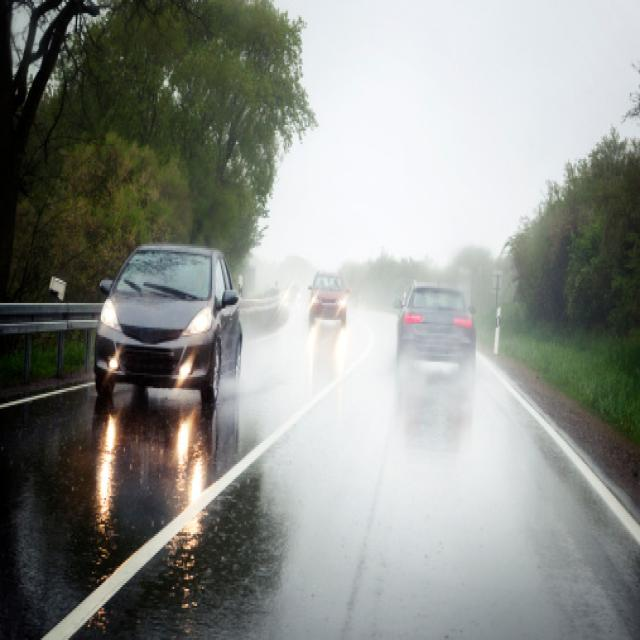car: (96, 239, 245, 416), (395, 280, 479, 382), (306, 264, 350, 331)
